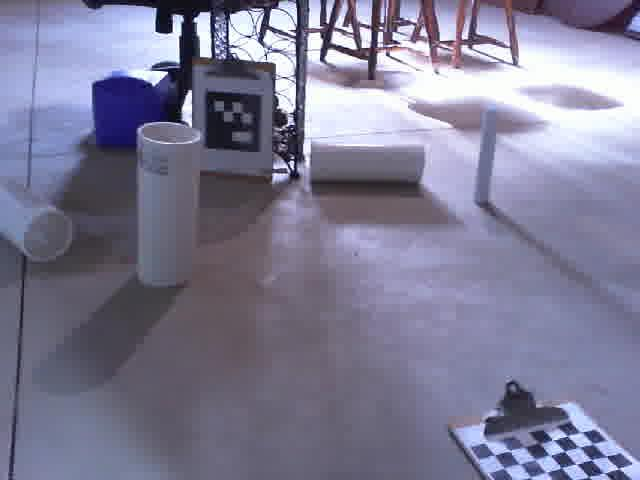coral: (128, 112, 207, 290), (0, 169, 78, 266), (303, 136, 432, 189)
